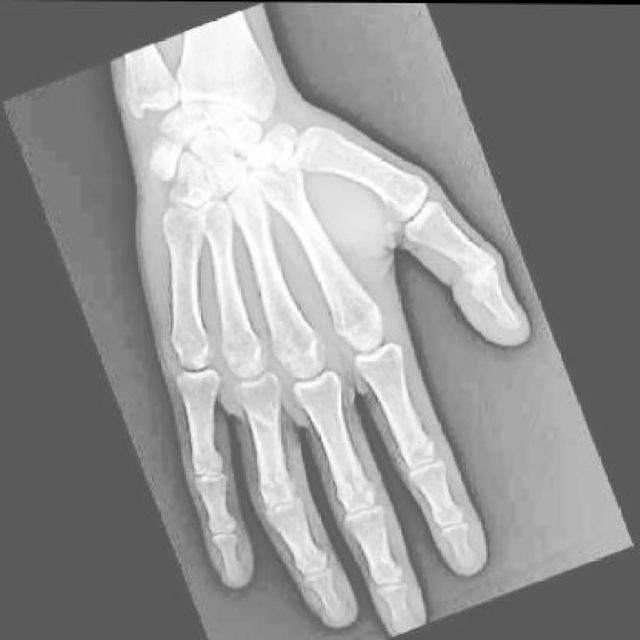Fracture: (460, 248, 509, 305)
